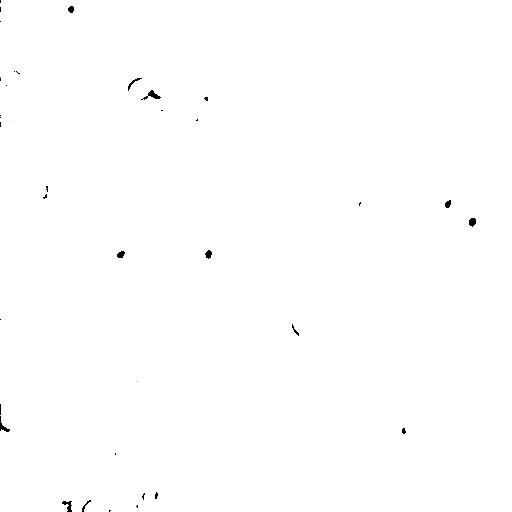micro-algae: (158, 41, 231, 116), (351, 49, 407, 101), (386, 411, 429, 453), (271, 363, 305, 401), (191, 234, 225, 271), (306, 285, 349, 314), (430, 185, 460, 221), (459, 204, 489, 237), (53, 0, 89, 26), (1, 399, 27, 434), (186, 80, 217, 108), (103, 239, 131, 269), (127, 73, 154, 102), (377, 390, 403, 418), (395, 67, 425, 91), (255, 397, 281, 423), (436, 39, 461, 64), (441, 0, 469, 22), (112, 440, 134, 468), (1, 67, 26, 91), (281, 336, 305, 361), (145, 1, 168, 27), (179, 104, 204, 127), (215, 0, 245, 17), (395, 274, 418, 296), (300, 295, 323, 317), (357, 191, 380, 212), (168, 452, 189, 475), (64, 483, 83, 507), (290, 314, 309, 337), (126, 303, 147, 323), (38, 215, 63, 231), (129, 375, 151, 393), (2, 0, 21, 20), (147, 109, 166, 127), (142, 486, 160, 504), (51, 499, 75, 512), (80, 497, 101, 511), (125, 493, 141, 511), (36, 181, 49, 201), (0, 113, 16, 127), (105, 505, 121, 511)
